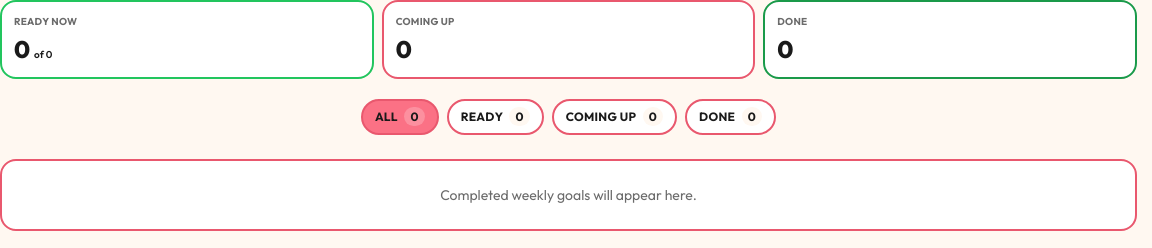
RepetitionBoard › uses the appropriate empty message for all goals and each filtered tab
Expected: the text with test id "sr-empty-state" reads "Completed weekly goals will appear here.", [440,186,697,204]
What coordinates should you click on to do the following:
click the button "Coming Up 0"
I would click on:
 (614, 117)
Its box is [552,99,677,135].
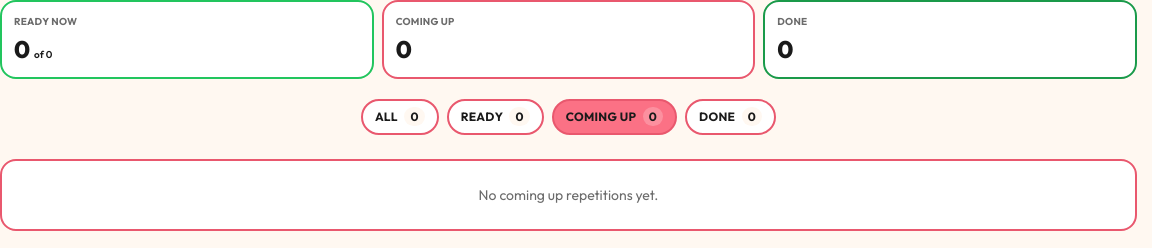
Result: the text with test id "sr-empty-state" reads "No coming up repetitions yet." at [479,186,658,204]
What coordinates should you click on to do the following:
click the button "Done 0"
I would click on:
 (731, 117)
Its box is [685,99,776,135].
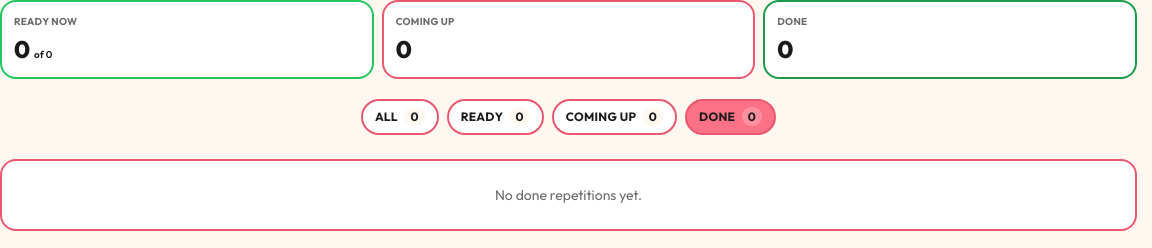
Result: the text with test id "sr-empty-state" reads "No done repetitions yet." at [495,186,642,204]
